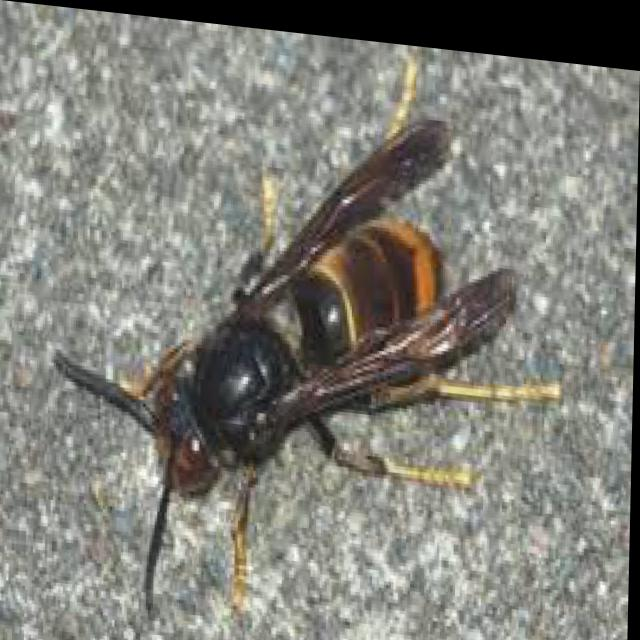Vespa Velutina: (33, 4, 579, 639)
